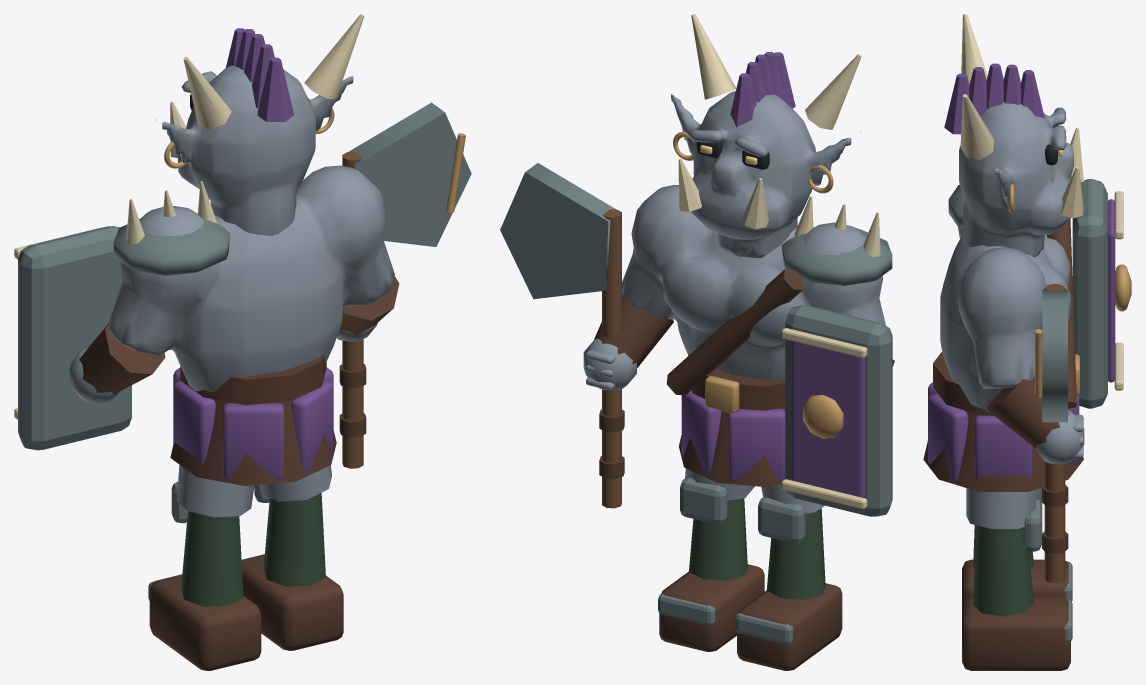
The model's file is host_49.glb.
3 renders of one model, left to right at view 1: azimuth 30°, elevation 25°; view 2: azimuth 150°, elevation 25°; view 3: azimuth 270°, elevation 25°, orthographic. The views are drawn at different scales.
Parts seen in each view (by area): view 1: mesh_Skin.002, mesh_Iron.002, mesh_Leather.002, mesh_Cloth.048, mesh_Leather.048, mesh_Leather.001, mesh_Bone.048, mesh_Shadow.048, mesh_Shadow.001, mesh_Skin.048, mesh_Wood.048, mesh_Skin.001 (+1 smaller); view 2: mesh_Skin.002, mesh_Iron.002, mesh_Cloth.048, mesh_Leather.002, mesh_Bone.048, mesh_Leather.048, mesh_Leather.001, mesh_Wood.048, mesh_Shadow.048, mesh_Shadow.001, mesh_Copper.048, mesh_Iron.048 (+4 smaller); view 3: mesh_Skin.002, mesh_Iron.002, mesh_Cloth.048, mesh_Leather.002, mesh_Leather.001, mesh_Shadow.001, mesh_Bone.048, mesh_Skin.001, mesh_Wood.048, mesh_Copper.048, mesh_Leather.048, mesh_Iron.001.
Boxes of the visible parts, x1,y1,x2,y2 form: mesh_Skin.002: (69, 65, 394, 403); mesh_Iron.002: (18, 102, 471, 450); mesh_Leather.002: (79, 276, 399, 485); mesh_Cloth.048: (173, 28, 333, 479); mesh_Leather.048: (149, 574, 261, 670); mesh_Leather.001: (241, 554, 343, 650); mesh_Bone.048: (14, 14, 364, 419); mesh_Shadow.048: (181, 511, 243, 606); mesh_Shadow.001: (263, 493, 325, 586); mesh_Skin.048: (176, 465, 254, 517); mesh_Wood.048: (342, 151, 363, 468); mesh_Skin.001: (259, 465, 331, 501); mesh_Skin.002: (583, 91, 885, 390); mesh_Iron.002: (500, 163, 892, 516); mesh_Cloth.048: (681, 52, 864, 497); mesh_Leather.002: (594, 269, 894, 486); mesh_Bone.048: (678, 14, 880, 509); mesh_Leather.048: (737, 583, 842, 670); mesh_Leather.001: (659, 564, 764, 651); mesh_Wood.048: (602, 209, 621, 508); mesh_Shadow.048: (766, 508, 825, 599); mesh_Shadow.001: (689, 498, 747, 580); mesh_Copper.048: (673, 131, 843, 438); mesh_Iron.048: (736, 497, 805, 644); mesh_Skin.002: (940, 102, 1084, 464); mesh_Iron.002: (948, 179, 1107, 422); mesh_Cloth.048: (928, 63, 1115, 482); mesh_Leather.002: (923, 217, 1083, 553); mesh_Leather.001: (962, 597, 1070, 670); mesh_Shadow.001: (973, 525, 1033, 616); mesh_Bone.048: (960, 14, 1123, 390); mesh_Skin.001: (966, 488, 1036, 529); mesh_Wood.048: (1044, 283, 1065, 583); mesh_Copper.048: (1008, 184, 1131, 397); mesh_Leather.048: (962, 559, 1068, 605); mesh_Iron.001: (1023, 499, 1072, 642).
Bounding box in the file's own units: 1.4 × 1.96 × 0.6289.
